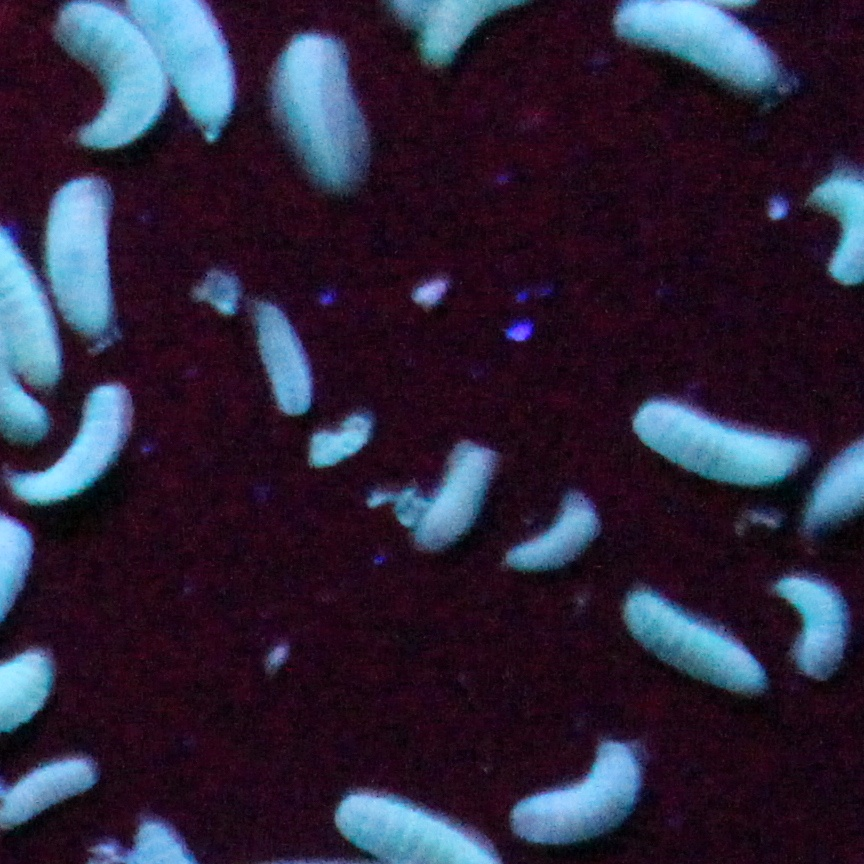larve: (52, 1, 166, 151), (612, 5, 778, 100), (626, 588, 762, 702), (641, 391, 798, 484), (25, 383, 130, 505), (275, 41, 360, 189), (520, 744, 638, 840), (52, 183, 106, 337), (776, 572, 848, 686), (253, 299, 315, 415), (417, 446, 491, 540), (509, 498, 594, 568)
